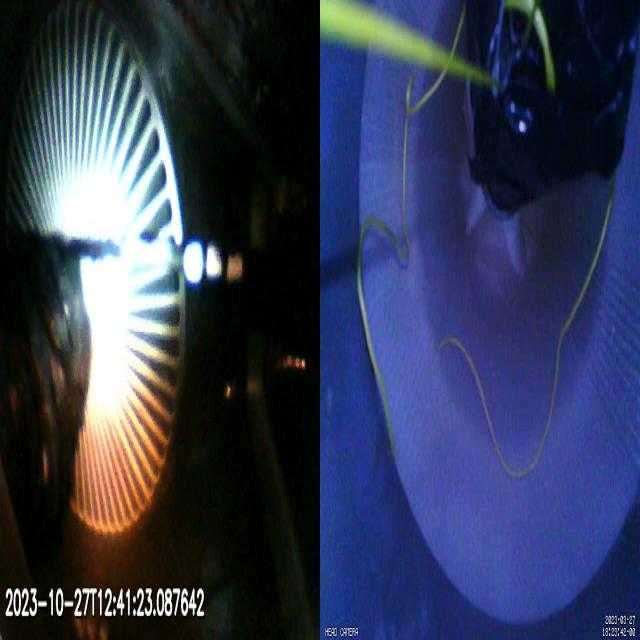white-dots: (183, 241, 243, 285)
